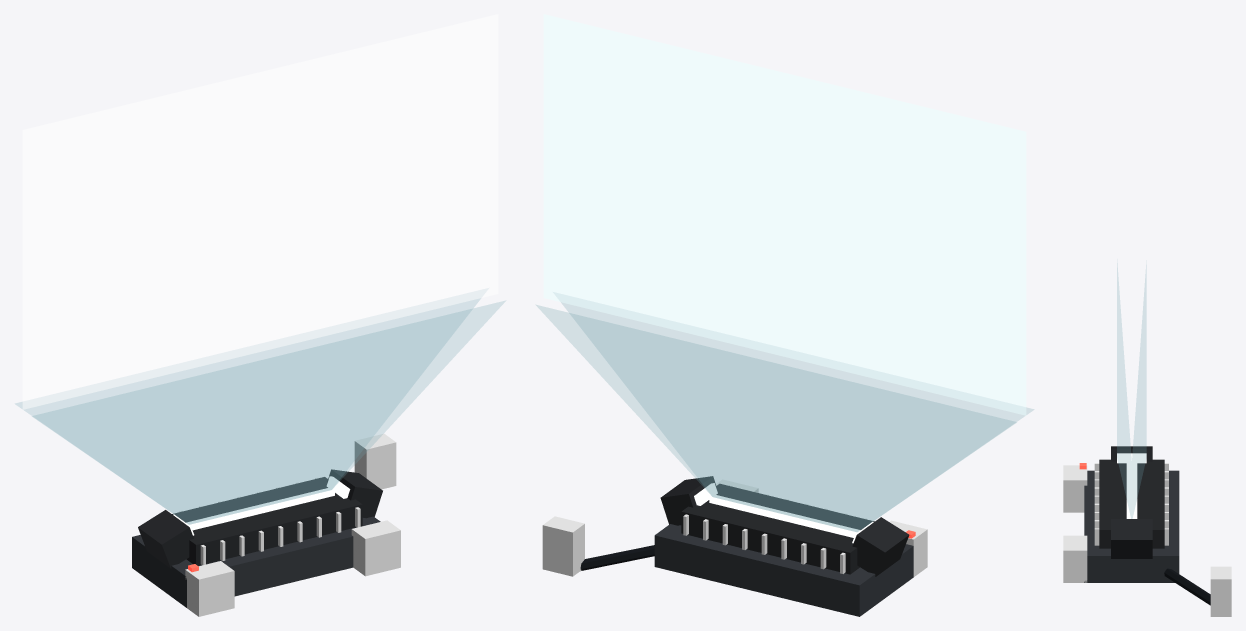
File: holo_roof.gltf
3 views of the same model, side by side, from view 1: azimuth 30°, elevation 25°; view 2: azimuth 150°, elevation 25°; view 3: azimuth 270°, elevation 25° (orthographic). The views are drawn at different scales.
Parts seen in each view (by area): view 1: holo, beam, graphite, panel, detail_olive, olive, lens, detail_steel; view 2: holo, beam, graphite, panel, olive, lens, detail_steel, detail_olive, detail_dark; view 3: graphite, panel, beam, detail_olive, olive, detail_steel, lens, detail_dark, detail_lens.
Part boxes in pixels (x1,y1,x2,y2): holo: [22, 14, 498, 409]; beam: [15, 298, 505, 524]; graphite: [138, 469, 382, 568]; panel: [132, 516, 380, 607]; detail_olive: [185, 520, 400, 616]; olive: [354, 433, 396, 489]; lens: [186, 488, 334, 530]; detail_steel: [180, 477, 360, 565]; holo: [543, 14, 1026, 415]; beam: [536, 302, 1033, 531]; graphite: [660, 476, 909, 576]; panel: [654, 524, 913, 616]; olive: [542, 516, 584, 576]; lens: [709, 495, 860, 537]; detail_steel: [683, 484, 866, 573]; detail_olive: [716, 479, 927, 576]; detail_dark: [580, 545, 654, 570]; graphite: [1099, 446, 1164, 558]; panel: [1084, 470, 1179, 582]; beam: [1117, 263, 1146, 518]; detail_olive: [1063, 465, 1087, 582]; olive: [1210, 566, 1231, 616]; detail_steel: [1094, 463, 1168, 545]; lens: [1126, 461, 1137, 518]; detail_dark: [1164, 568, 1210, 605]; detail_lens: [1117, 453, 1146, 463].
Bounding box in the file's own units: 8 × 7.93 × 2.83.
